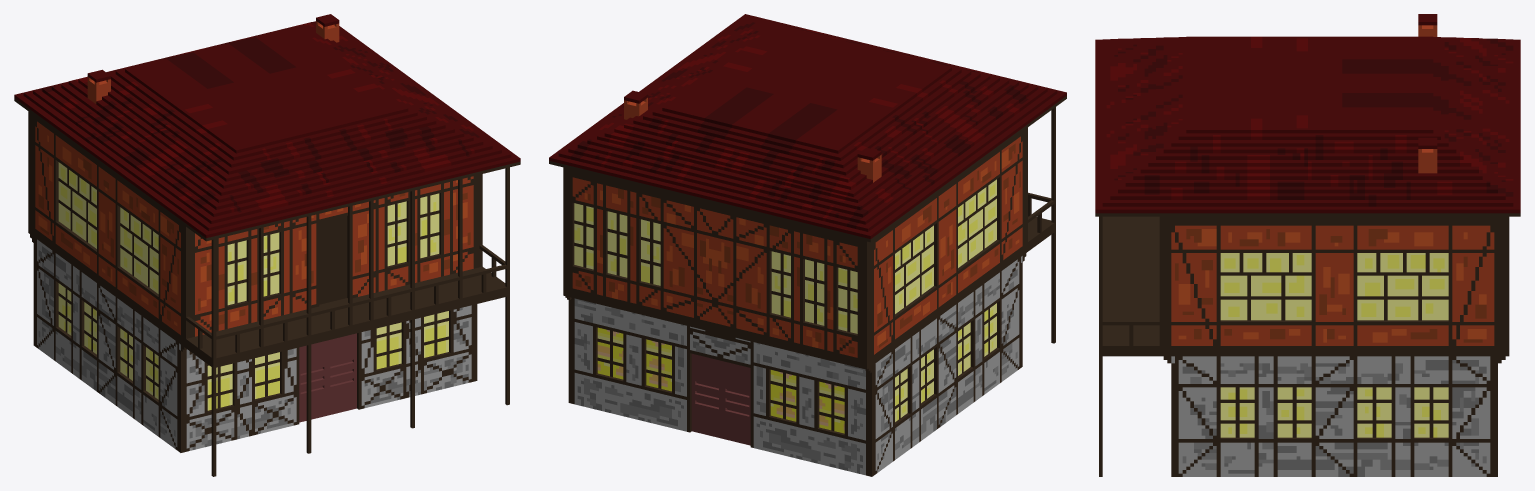
The picture shows the model from 3 angles, left to right: view 1: azimuth 30°, elevation 25°; view 2: azimuth 150°, elevation 25°; view 3: azimuth 270°, elevation 25°; orthographic projection. The views are drawn at different scales.
Parts seen in each view (by area): view 1: VOX; view 2: VOX; view 3: VOX.
Part boxes in pixels (x1,y1,x2,y2): VOX: (14,14,520,476); VOX: (549,14,1066,476); VOX: (1095,14,1520,476).
Size of the model in its own units: 0.106 by 0.092 by 0.112.
